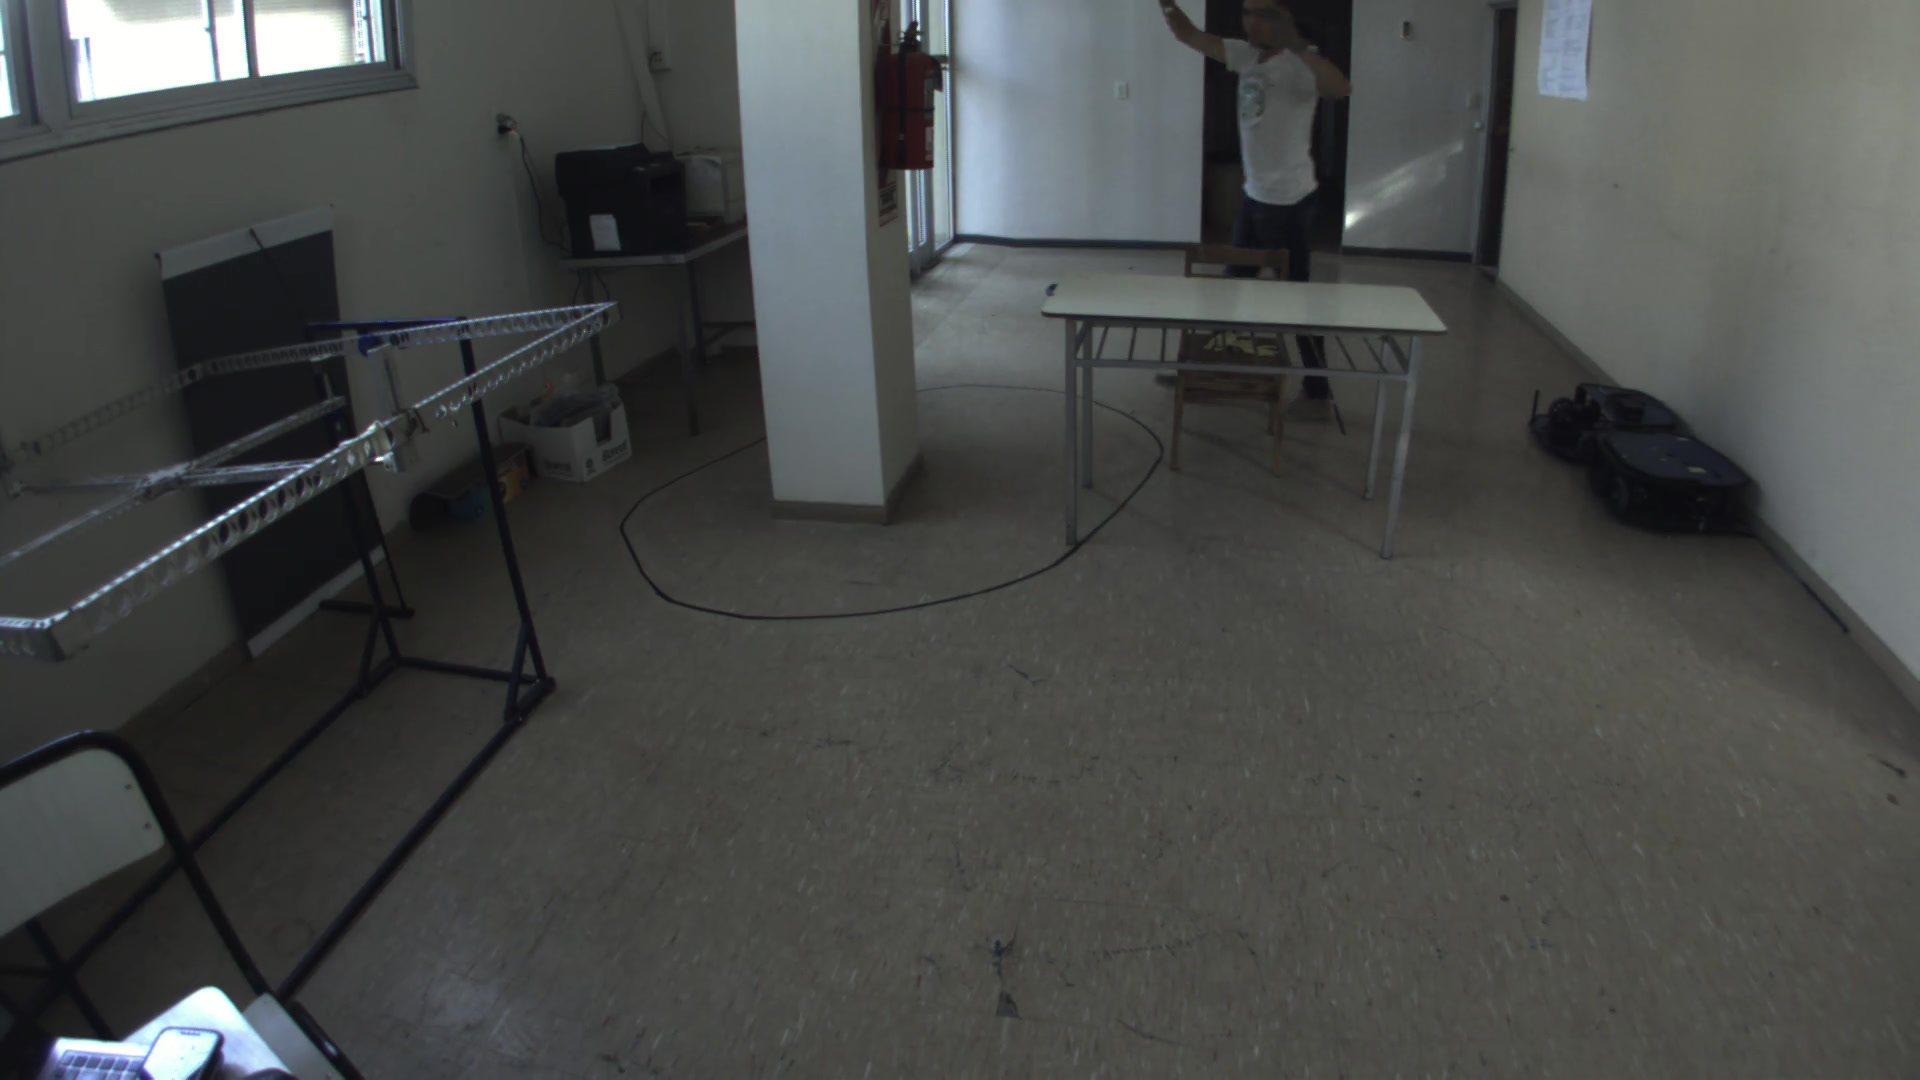hand: (1247, 1, 1313, 47)
